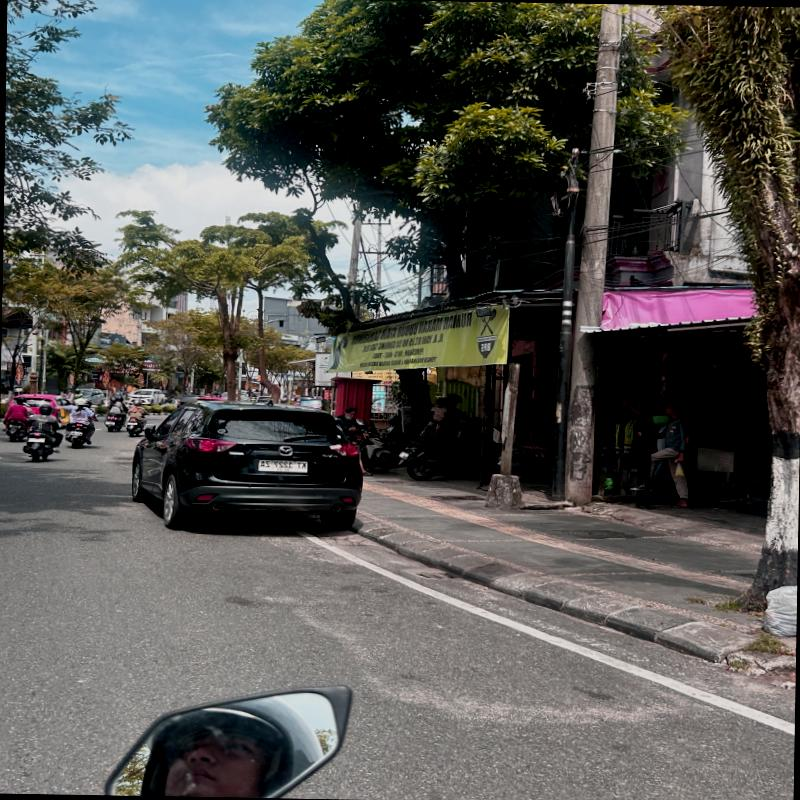license plate on a car: (258, 459, 307, 472)
